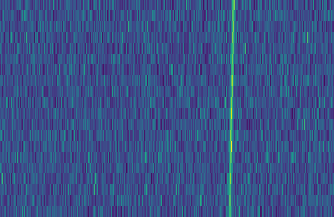signal: (226, 0, 238, 217)
